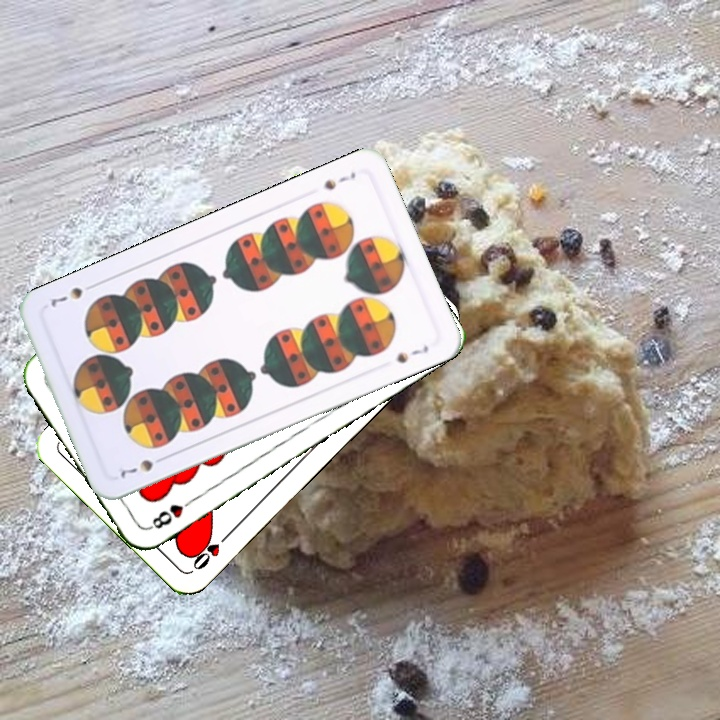H8: (145, 494, 198, 533)
HO: (188, 527, 234, 573)
S7: (116, 452, 170, 480), (319, 167, 359, 193)
